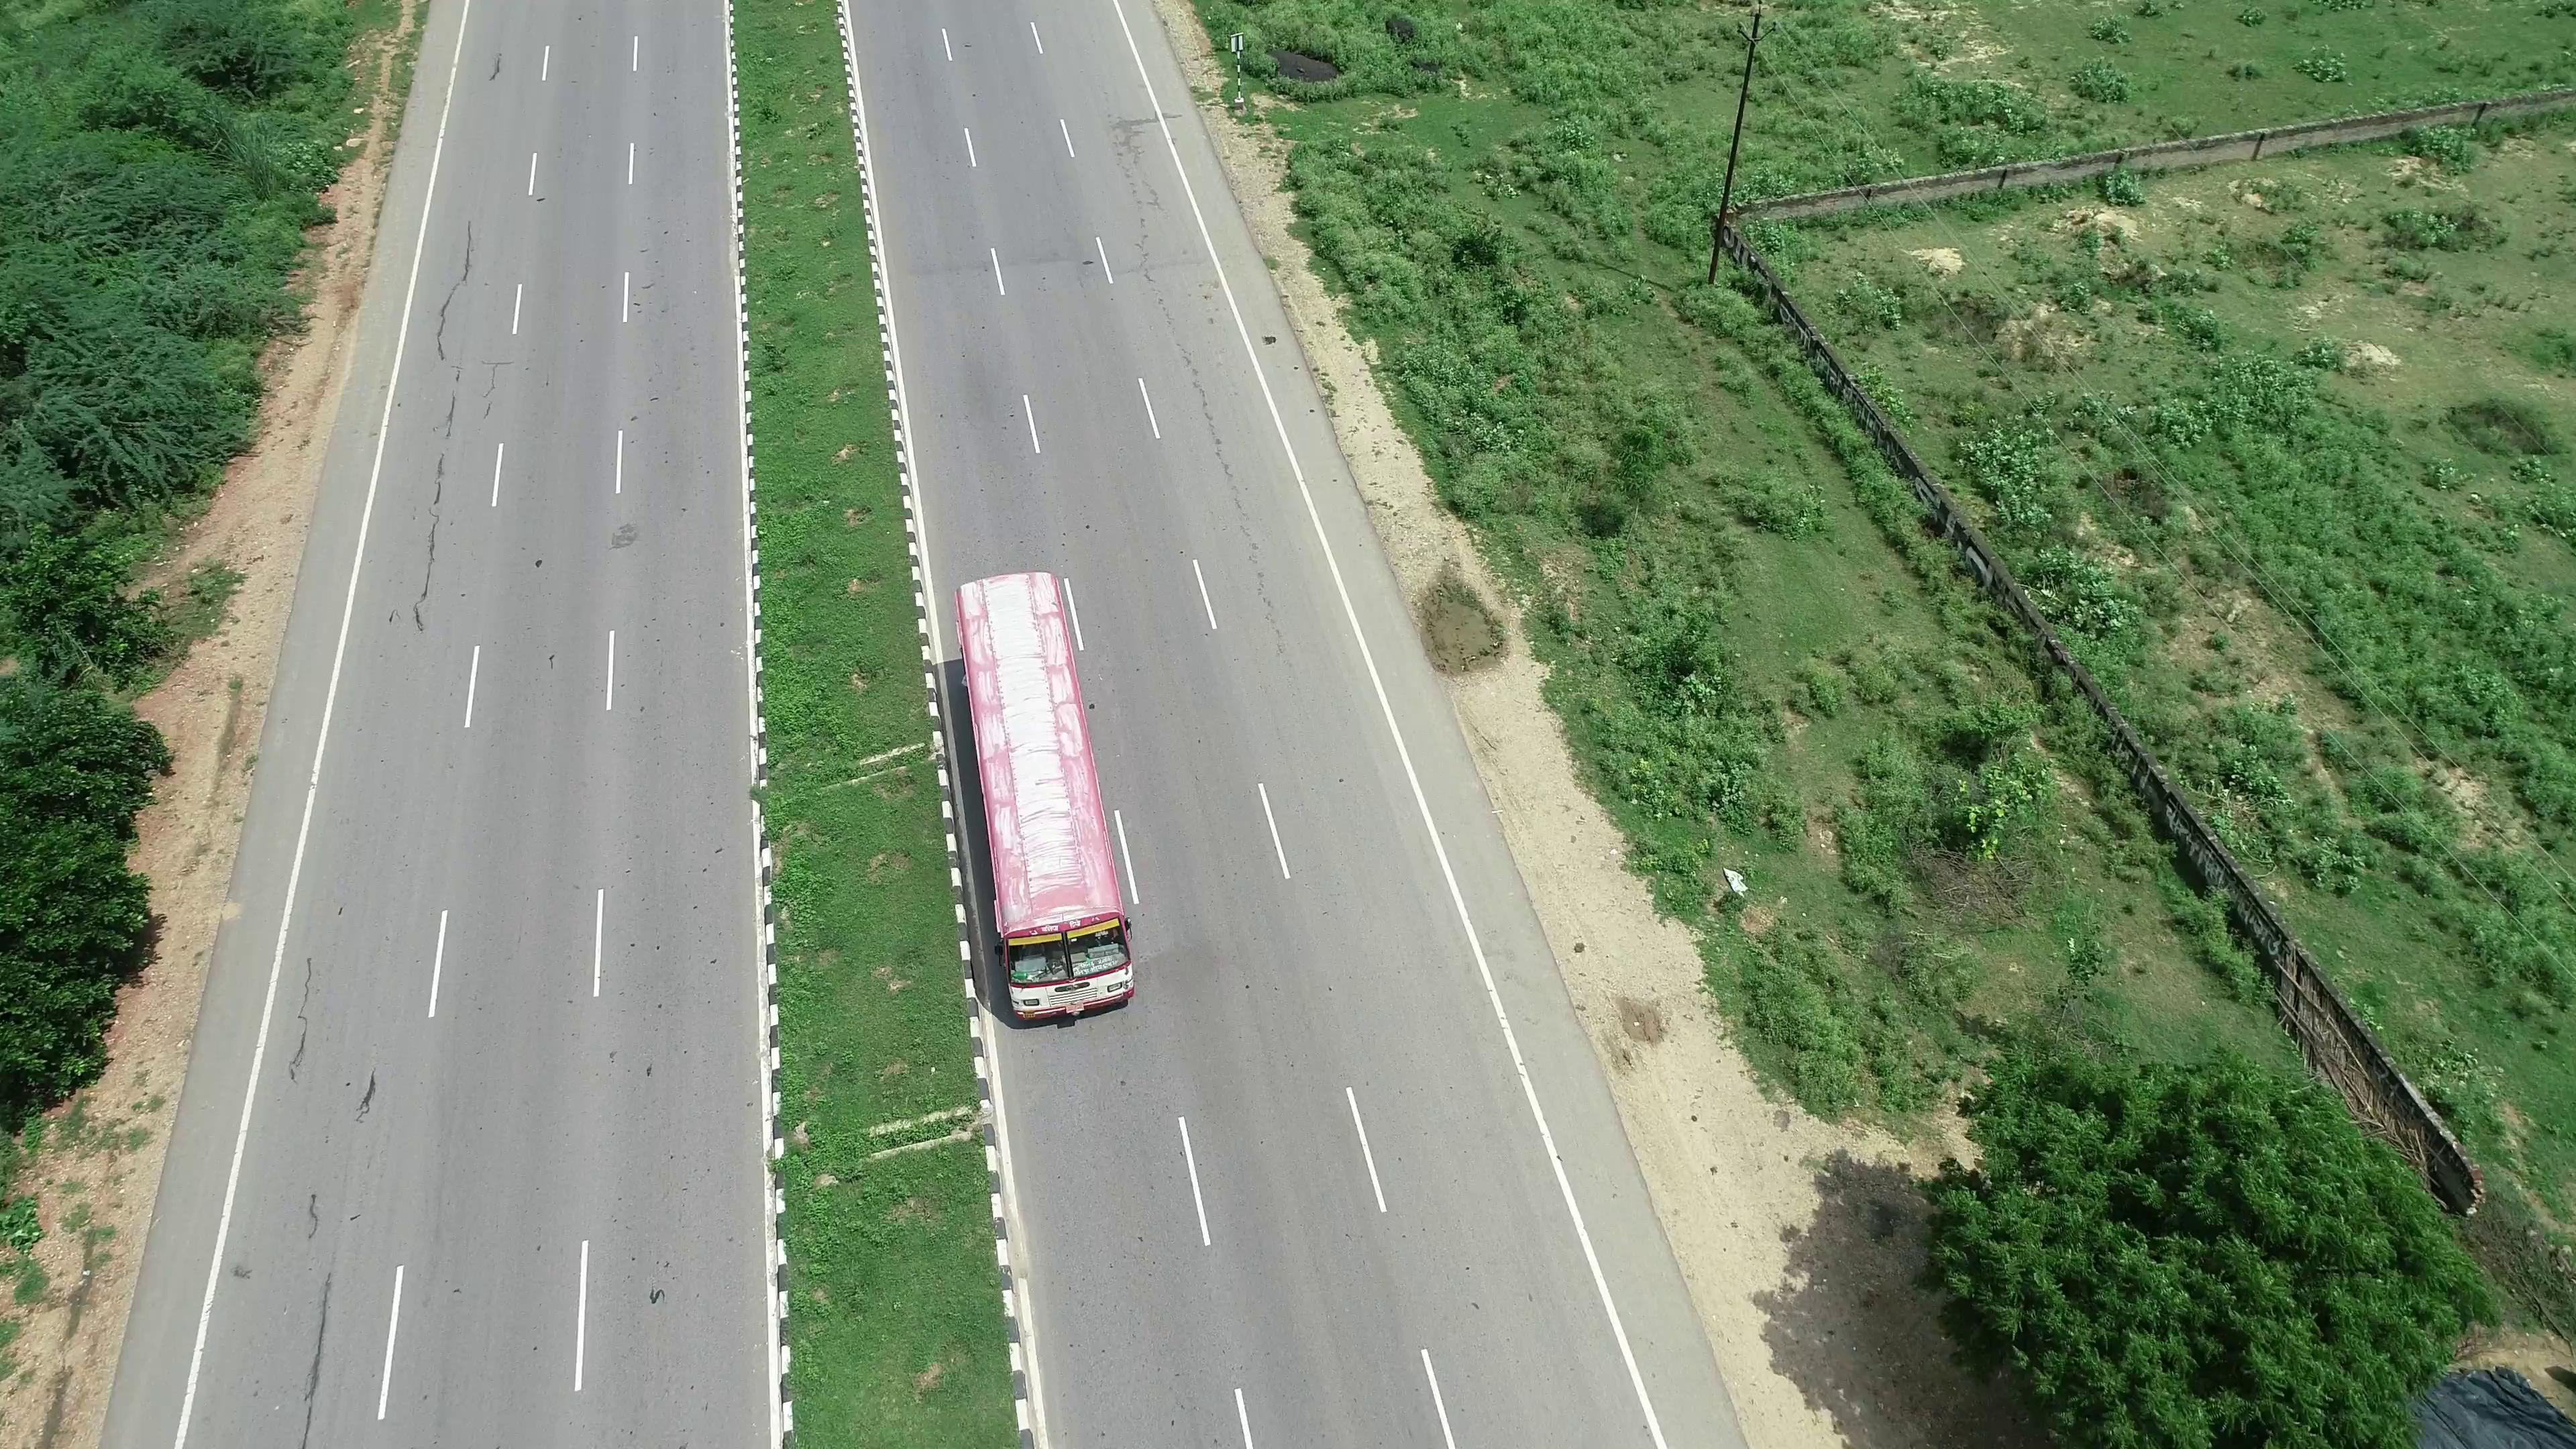Longitudinal_cracks: (396, 230, 495, 625), (287, 1240, 354, 1442)
